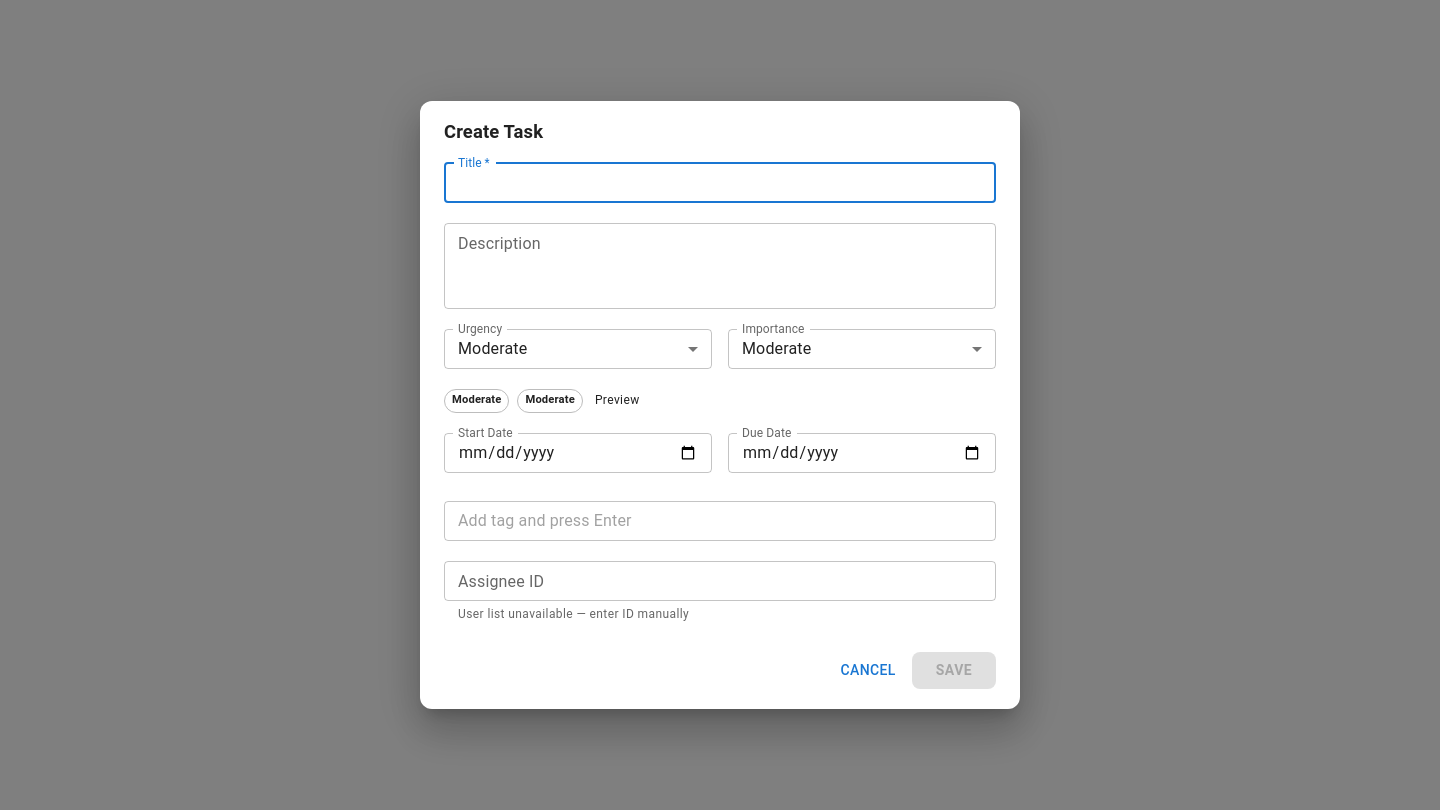
Test: TaskForm › renderiza TagInput y añade tag
Type "frontend" into the field with placeholder "Add tag and press Enter" at (720, 520), box [444,500,996,540]
Then press Enter
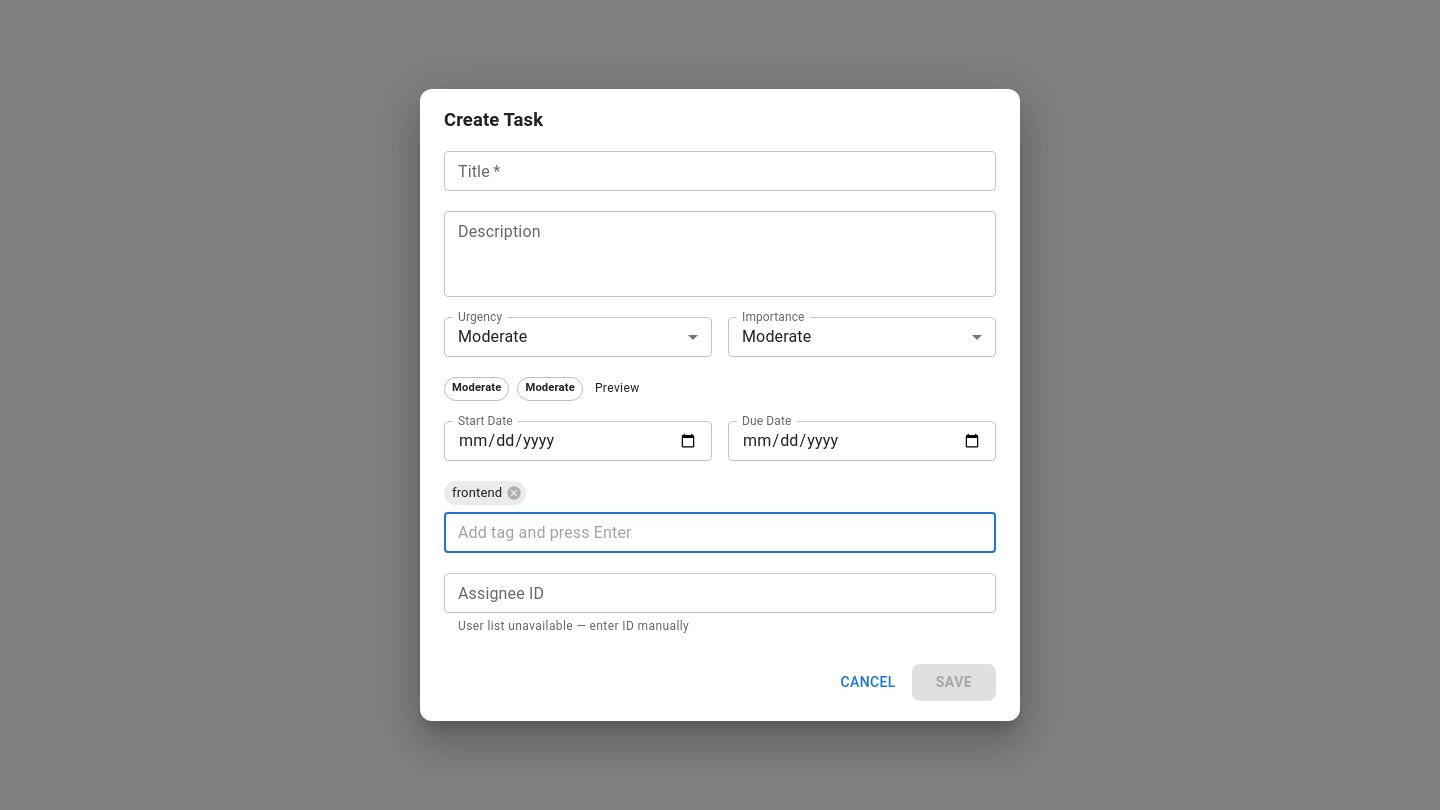
Result: the text "frontend" is shown at [452,485,502,500]
